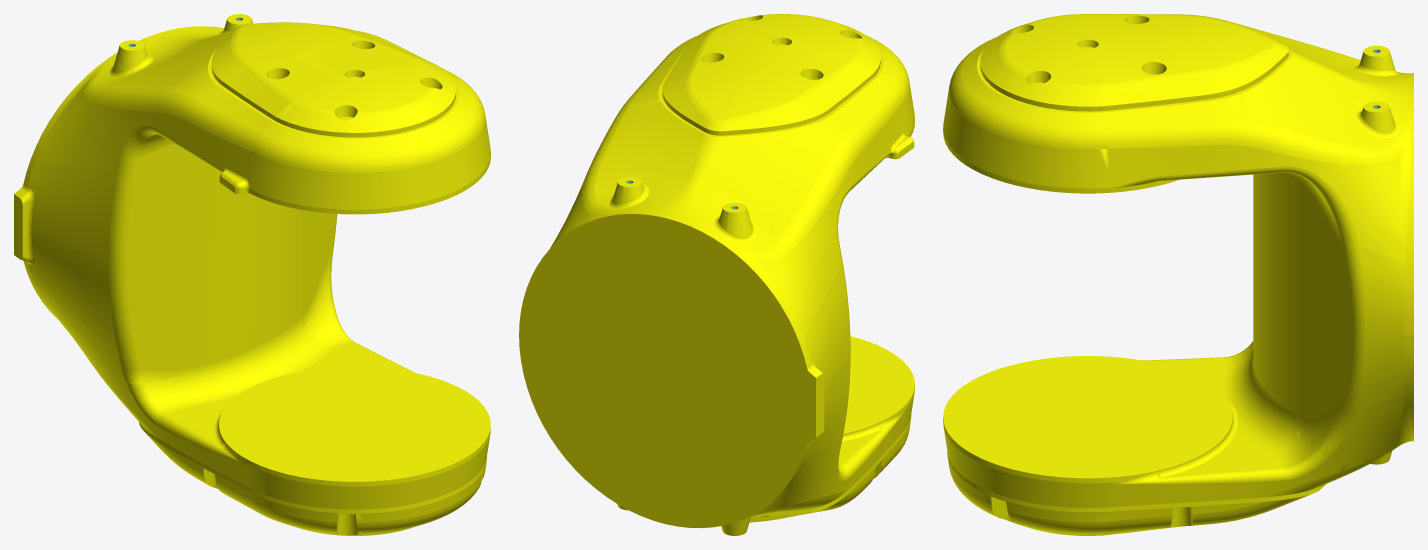
3 views of the same model, side by side, from view 1: azimuth 30°, elevation 25°; view 2: azimuth 150°, elevation 25°; view 3: azimuth 270°, elevation 25° (orthographic). The views are drawn at different scales.
Visible parts, largest first — view 1: Mesh_0; view 2: Mesh_0; view 3: Mesh_0.
Boxes of the visible parts, x1,y1,x2,y2 form: Mesh_0: [14, 14, 490, 535]; Mesh_0: [519, 14, 914, 535]; Mesh_0: [943, 14, 1413, 535].
Bounding box in the file's own units: 0.2278 × 0.3065 × 0.2853.
